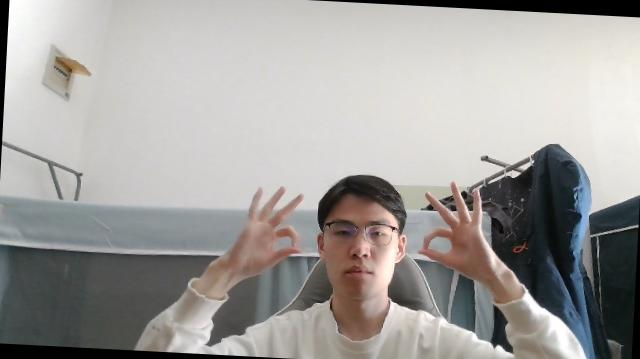ok: (418, 180, 490, 280), (233, 182, 304, 276)
